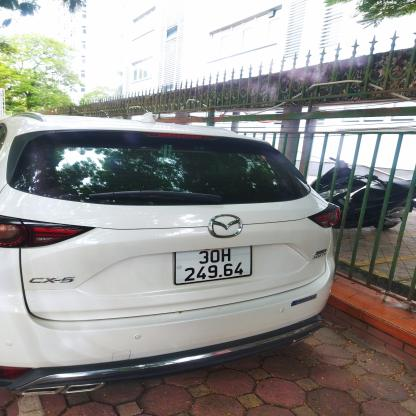biensoxe: (173, 245, 254, 286)
